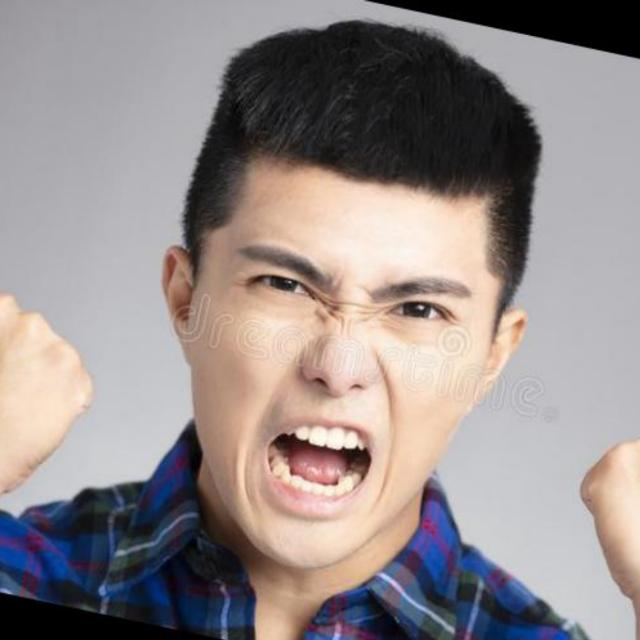Angry: (147, 75, 551, 556)
